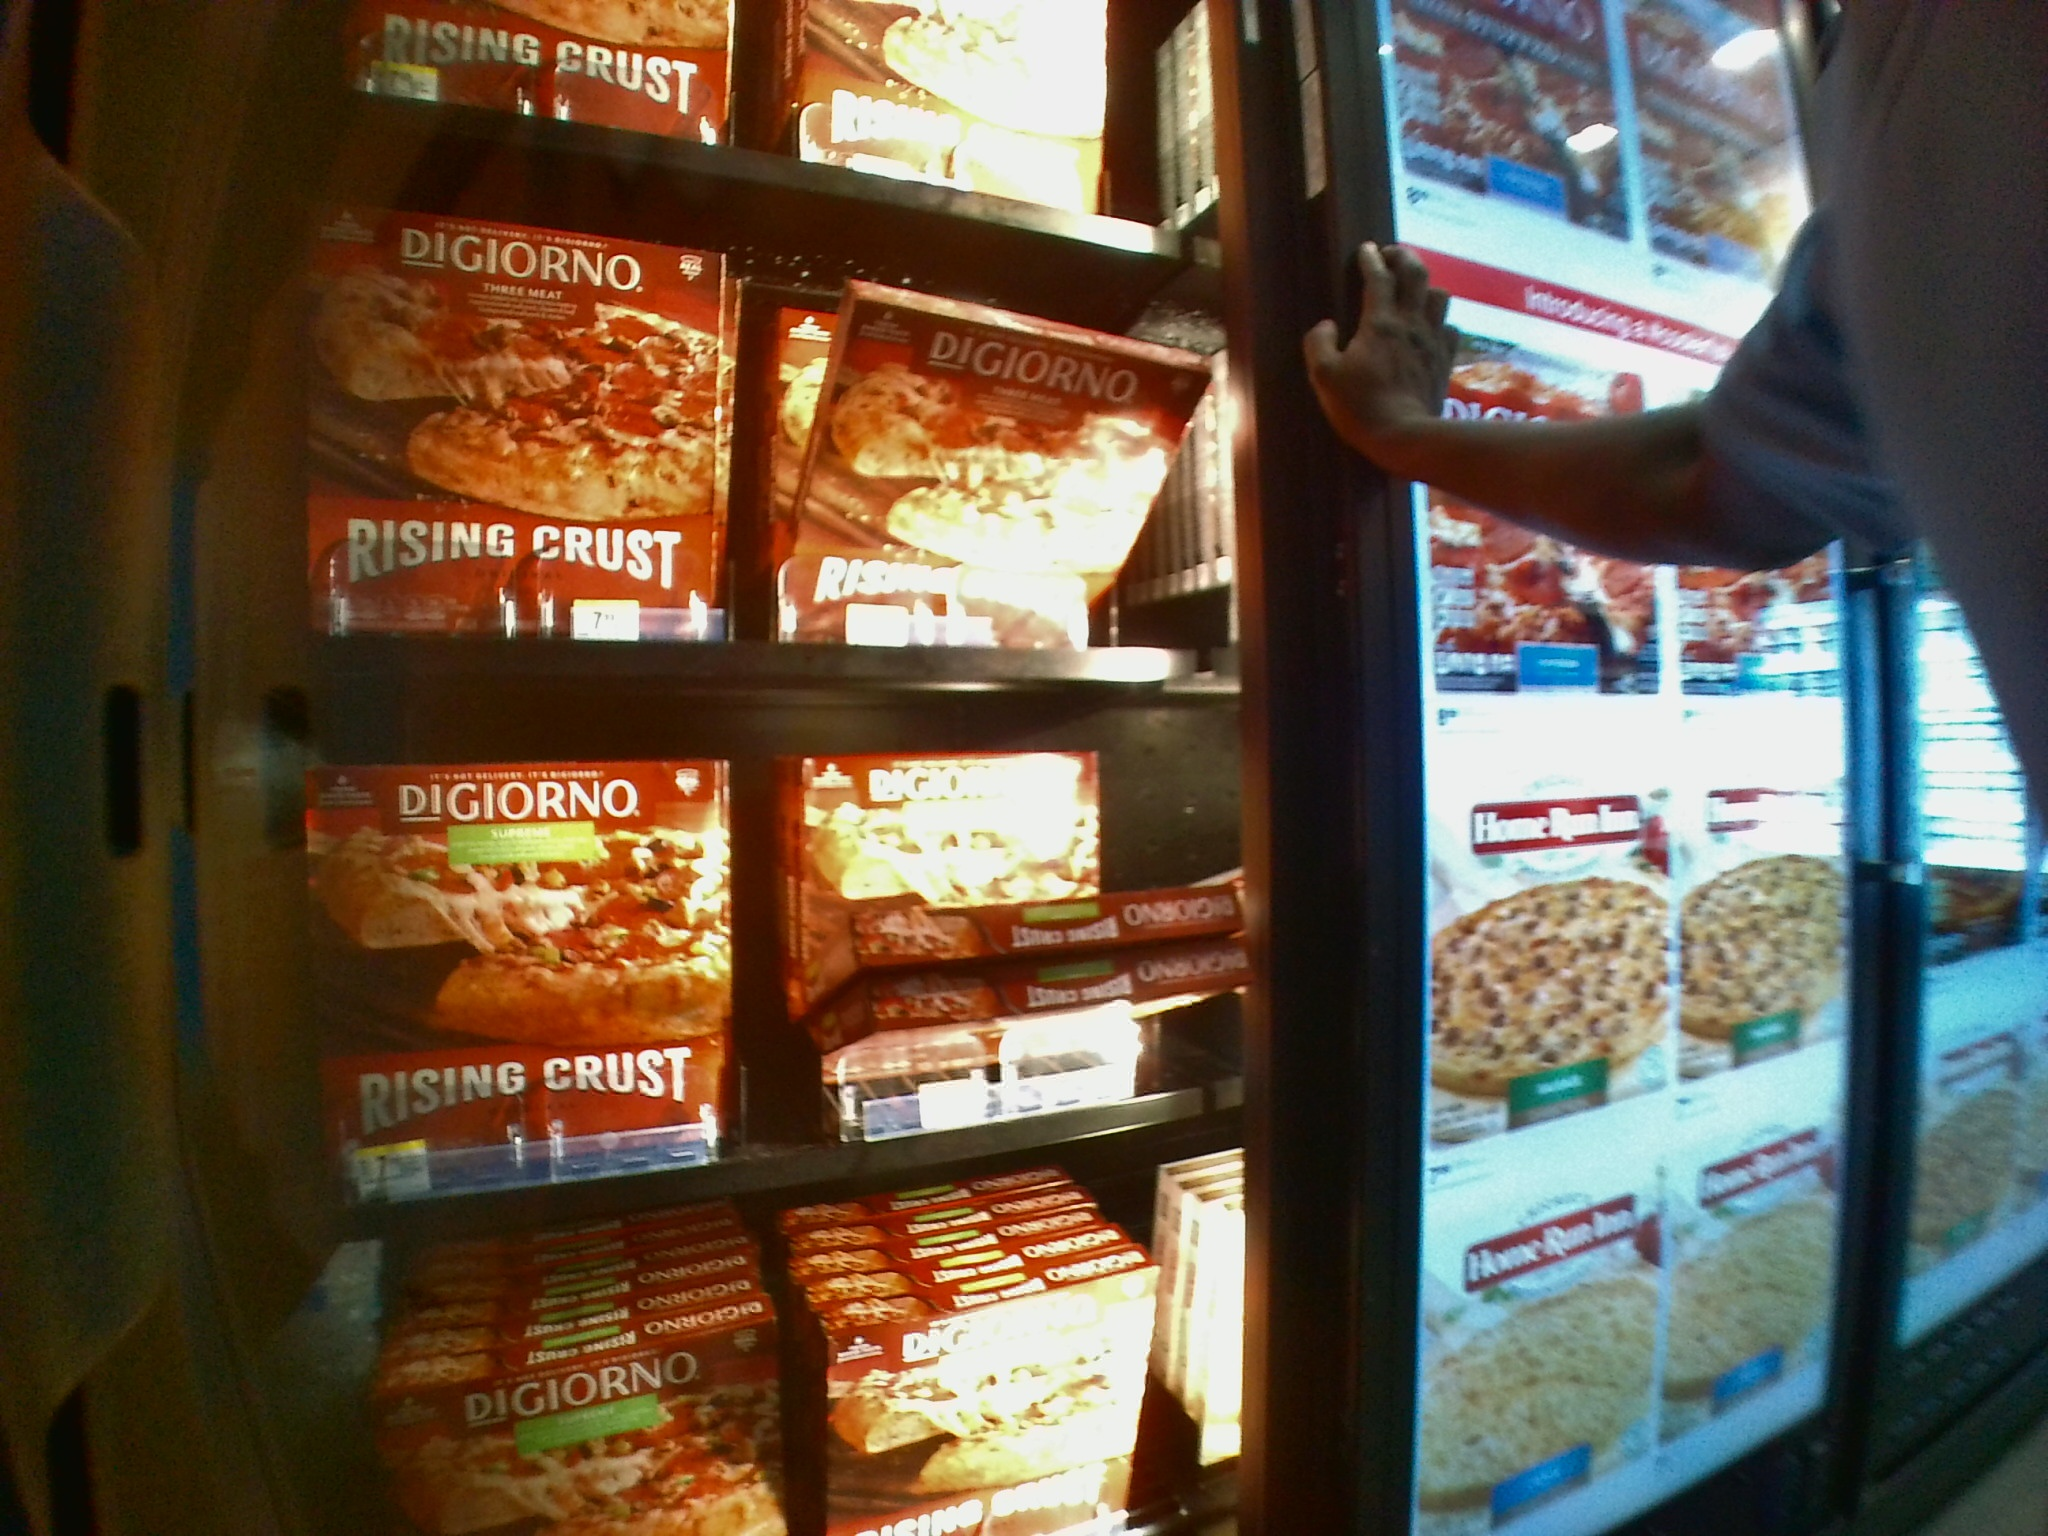shelf: (282, 192, 1251, 699), (303, 689, 1247, 1205)
